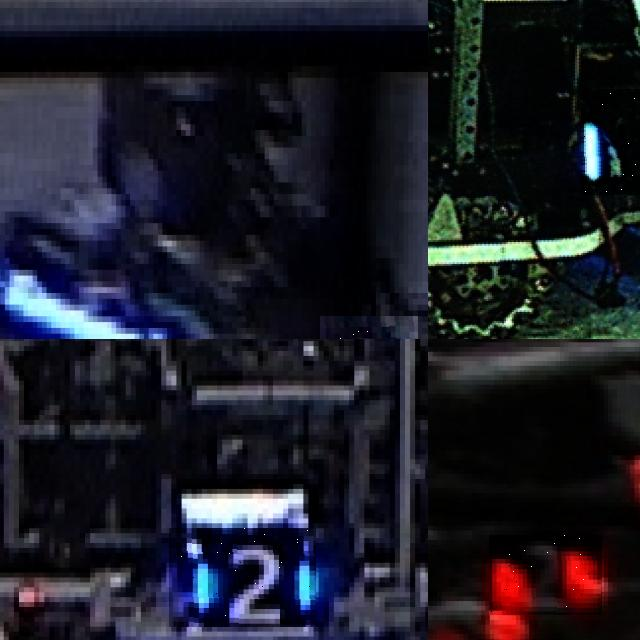B1: (581, 89, 640, 194)
B2: (169, 528, 316, 627)
R2: (489, 535, 604, 615)
